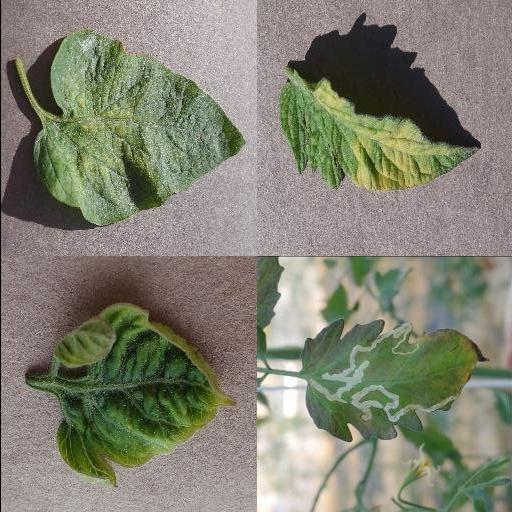Leaf Miner: (298, 318, 491, 444)
Leaf Mold: (278, 76, 480, 192)
Spider Mites: (31, 30, 245, 226)
Yellow Leaf Curl Virus: (47, 300, 239, 488)
